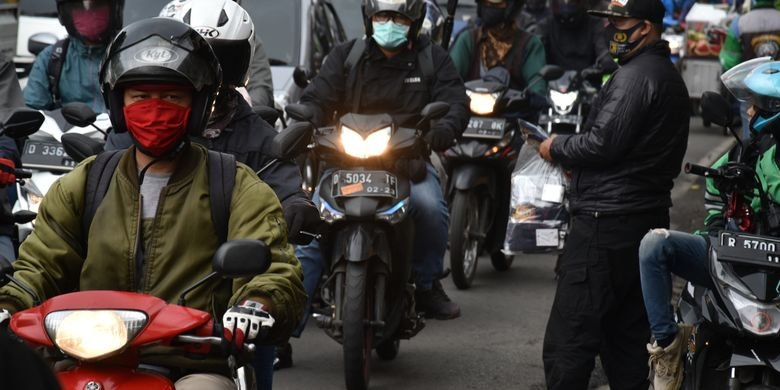motor: (298, 104, 429, 366), (6, 292, 208, 390), (447, 76, 515, 287)
